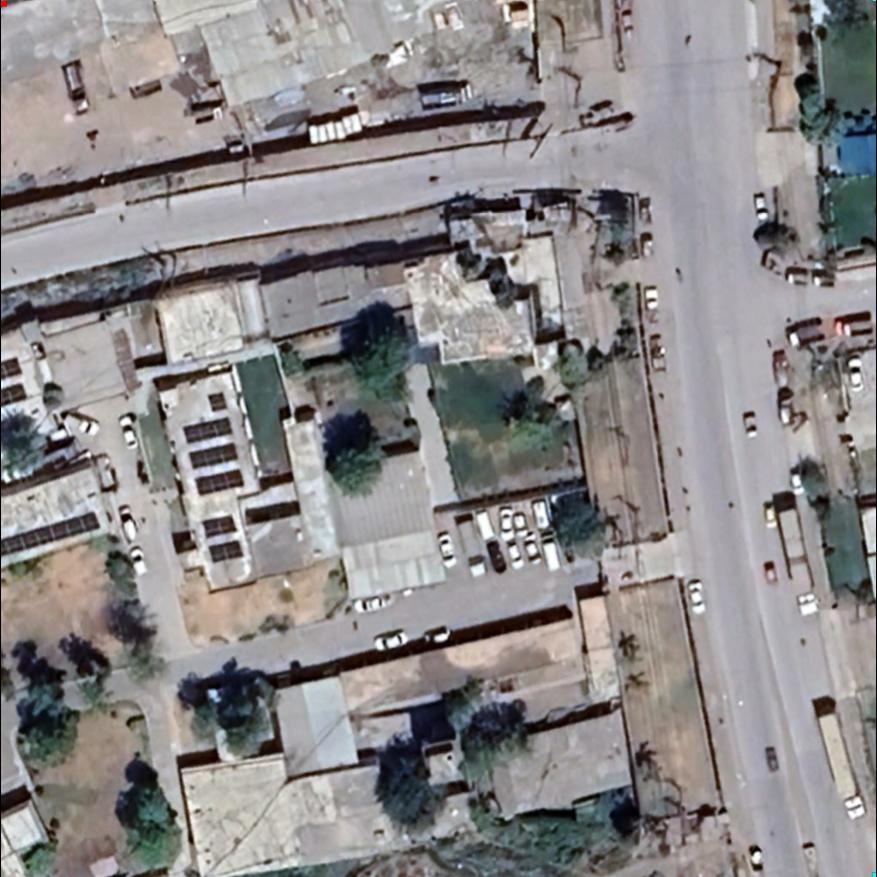Solarpanel: (1, 506, 109, 565), (175, 437, 246, 475), (194, 466, 250, 503), (172, 415, 238, 445), (204, 537, 247, 564), (201, 512, 240, 541), (1, 383, 30, 412), (1, 353, 26, 385), (206, 387, 230, 416)
